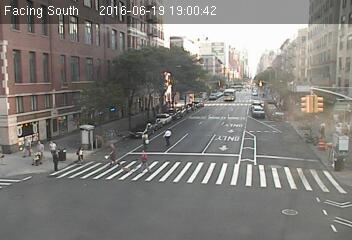neg: (242, 184, 262, 210), (318, 161, 337, 186), (7, 2, 26, 27), (45, 37, 63, 61), (116, 5, 134, 28), (285, 22, 302, 45), (271, 57, 288, 80), (255, 145, 272, 167), (233, 110, 249, 132), (130, 49, 146, 71), (199, 127, 215, 148), (188, 7, 204, 28), (82, 85, 97, 105), (316, 58, 331, 78), (278, 124, 293, 144), (13, 75, 28, 95), (290, 164, 305, 183), (179, 179, 193, 198), (300, 91, 314, 110), (45, 185, 59, 204), (166, 24, 180, 42), (219, 169, 232, 187), (19, 49, 31, 65), (182, 82, 194, 98), (228, 71, 240, 86), (228, 21, 239, 36), (204, 42, 215, 56), (106, 188, 116, 203), (73, 25, 83, 38)
pos: (100, 138, 120, 164), (136, 147, 154, 172), (157, 126, 175, 149), (30, 137, 47, 161), (47, 147, 64, 170), (70, 144, 86, 165), (315, 119, 330, 139), (18, 136, 32, 154), (137, 131, 150, 148), (46, 137, 58, 152)
